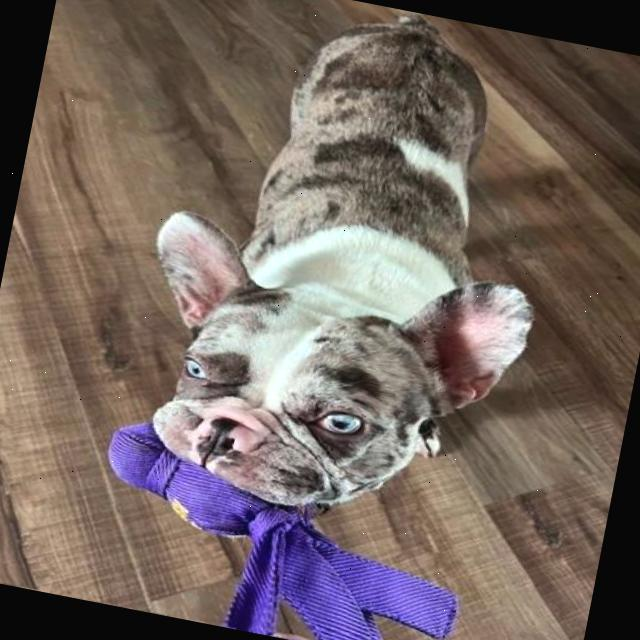french_bulldog_dog: (98, 196, 544, 554)
